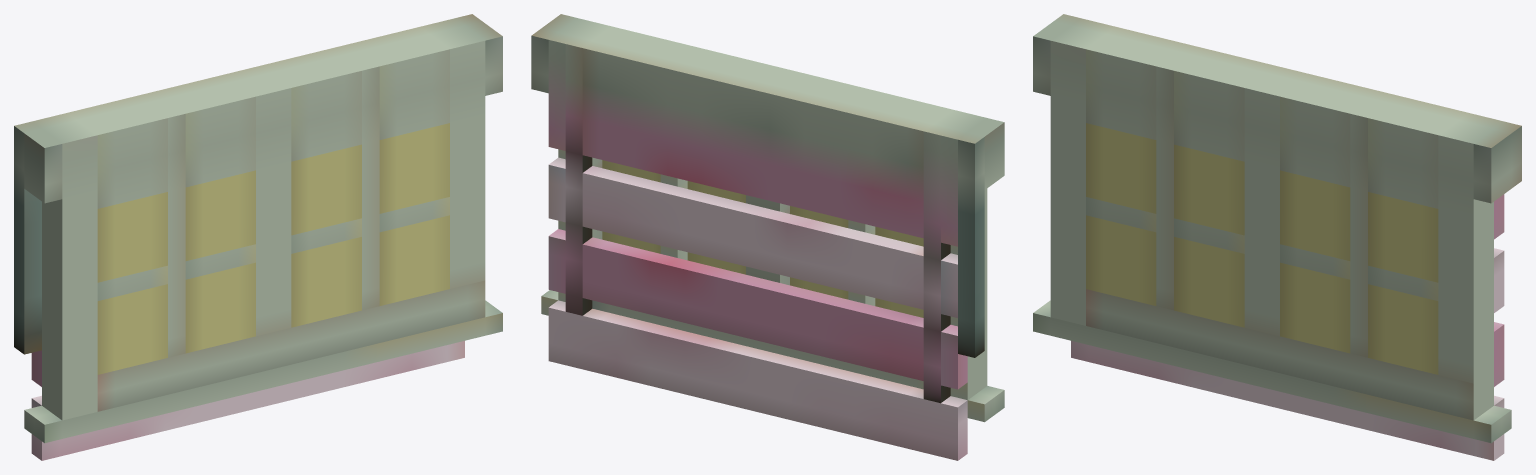
Rendered from BlindsPink_B_00.fbx.
3 views of the same model, side by side, from view 1: azimuth 30°, elevation 25°; view 2: azimuth 150°, elevation 25°; view 3: azimuth 330°, elevation 25° (orthographic). The views are drawn at different scales.
Parts seen in each view (by area): view 1: BlindsPink_B_00; view 2: BlindsPink_B_00; view 3: BlindsPink_B_00.
Boxes of the visible parts, x1=… form: BlindsPink_B_00: x1=14, y1=14, x2=502, y2=460; BlindsPink_B_00: x1=531, y1=14, x2=1004, y2=460; BlindsPink_B_00: x1=1033, y1=14, x2=1521, y2=460.
Bounding box in the file's own units: 130 × 15 × 90.
Materials: 2 (2 with a texture image).
